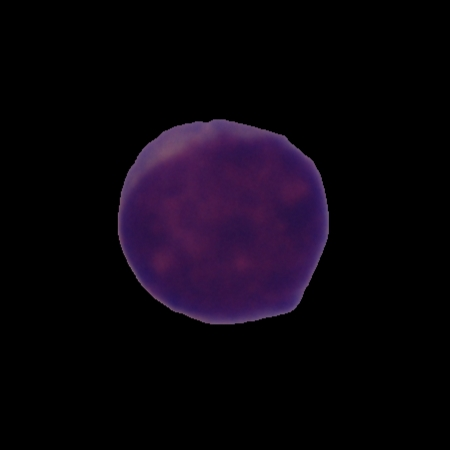ALL: (114, 114, 333, 329)
